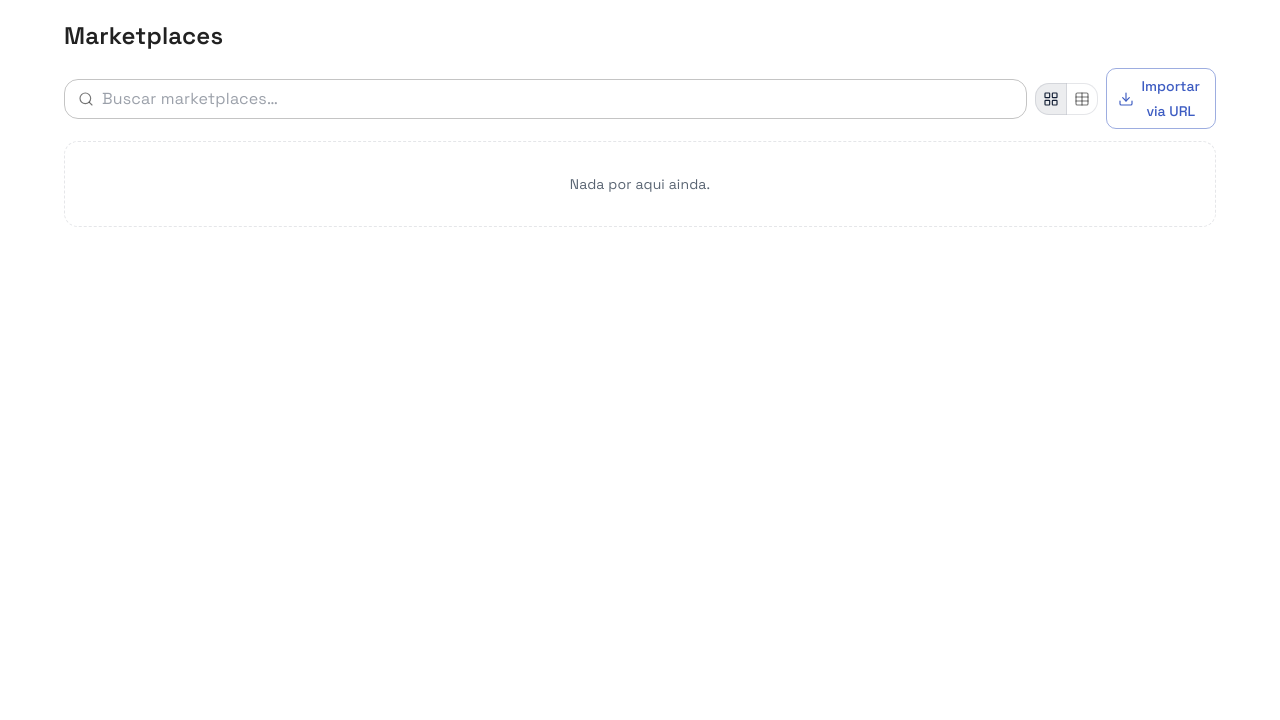
<MarketplaceList> › opens import dialog when Import from URL clicked
Check: the text "Nada por aqui ainda." is shown, box [570,175,710,193]
Click the button with test id "import-marketplace-button": (1161, 98) [1106,68,1216,129]
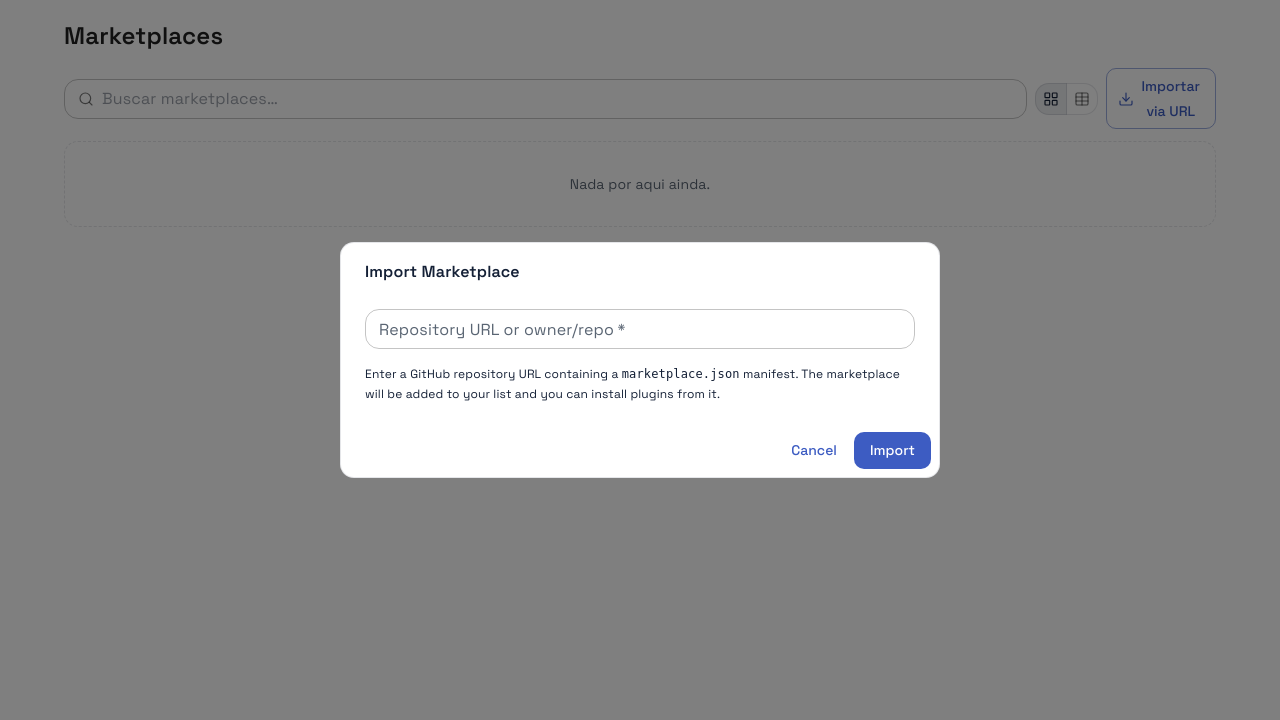
Check: the element with test id "marketplace-import-dialog" is shown
